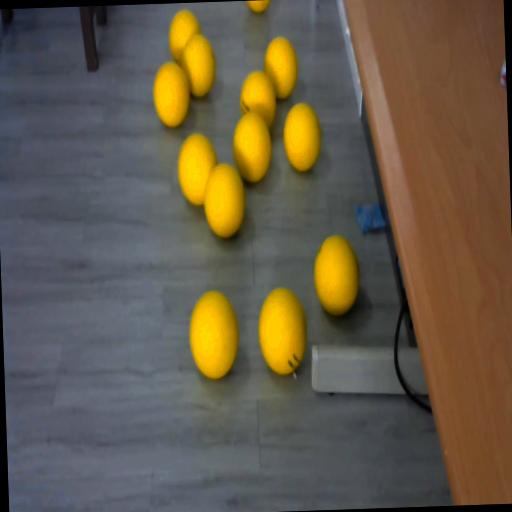FUEL: (186, 287, 240, 379), (255, 284, 308, 375), (312, 232, 360, 315), (200, 160, 247, 240), (231, 110, 273, 182), (282, 101, 322, 171), (152, 60, 191, 127), (180, 33, 217, 98), (263, 36, 298, 100), (245, 0, 271, 13)
